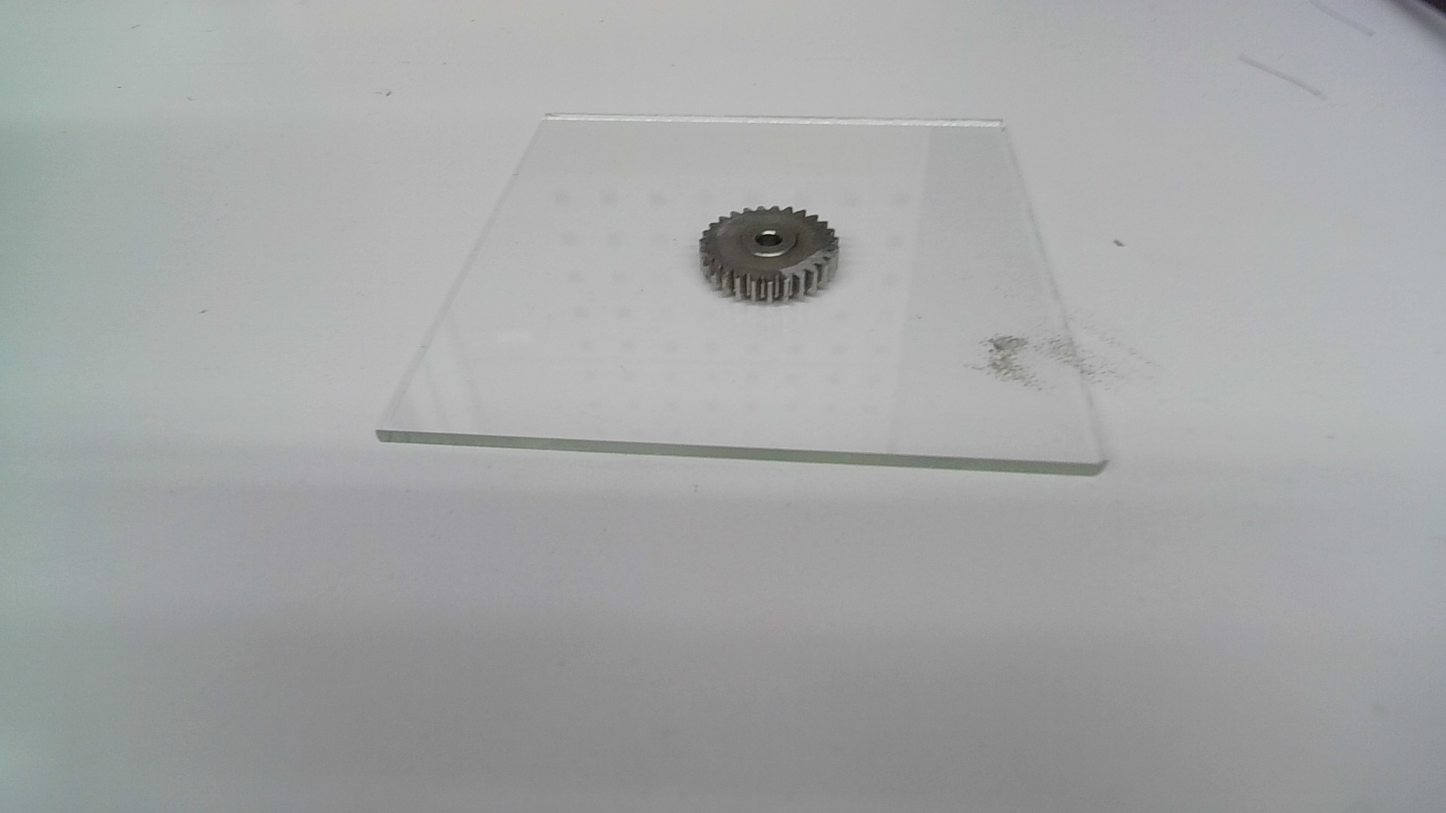gear: (698, 204, 844, 308)
